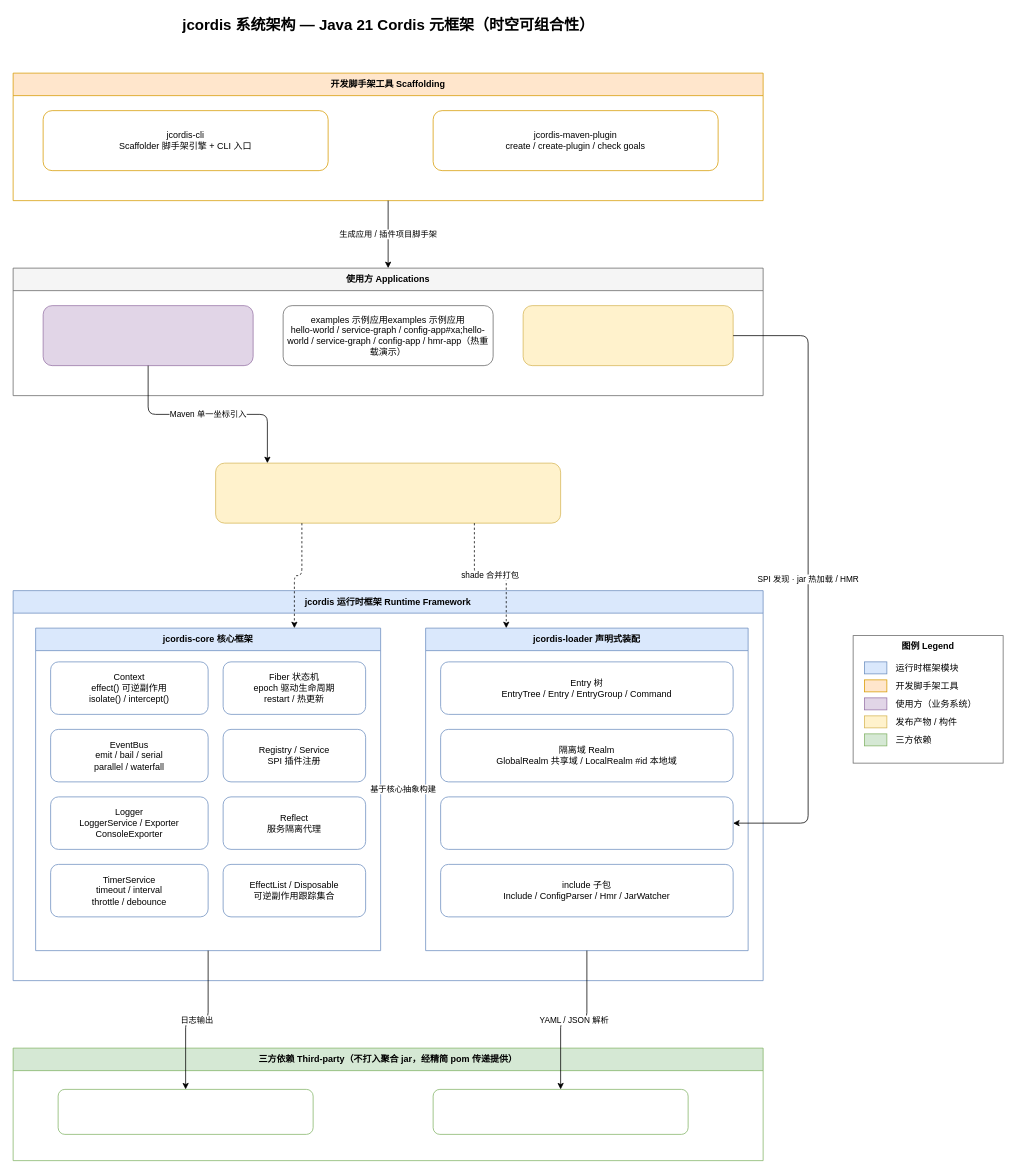
The diagram is 1016 pixels wide and 1174 high, and some of its shapes have lost their labels. Here are the shapes that lost their labels. From the top down, the centre of each, then its label:
the point at 147,335: 业务系统 Host Application
the point at 627,335: 插件 jar（构件） 干净 jar + SPI 服务清单
the point at 388,492: jcordis-all（发布产物） Shade 聚合 jar：一个坐标引入全部运行时模块
the point at 586,822: PluginClassLoader loadJar / replaceJar / unload 完整类卸载
the point at 185,1111: SLF4J API 日志门面
the point at 560,1111: Jackson Databind + YAML 配置文件解析
